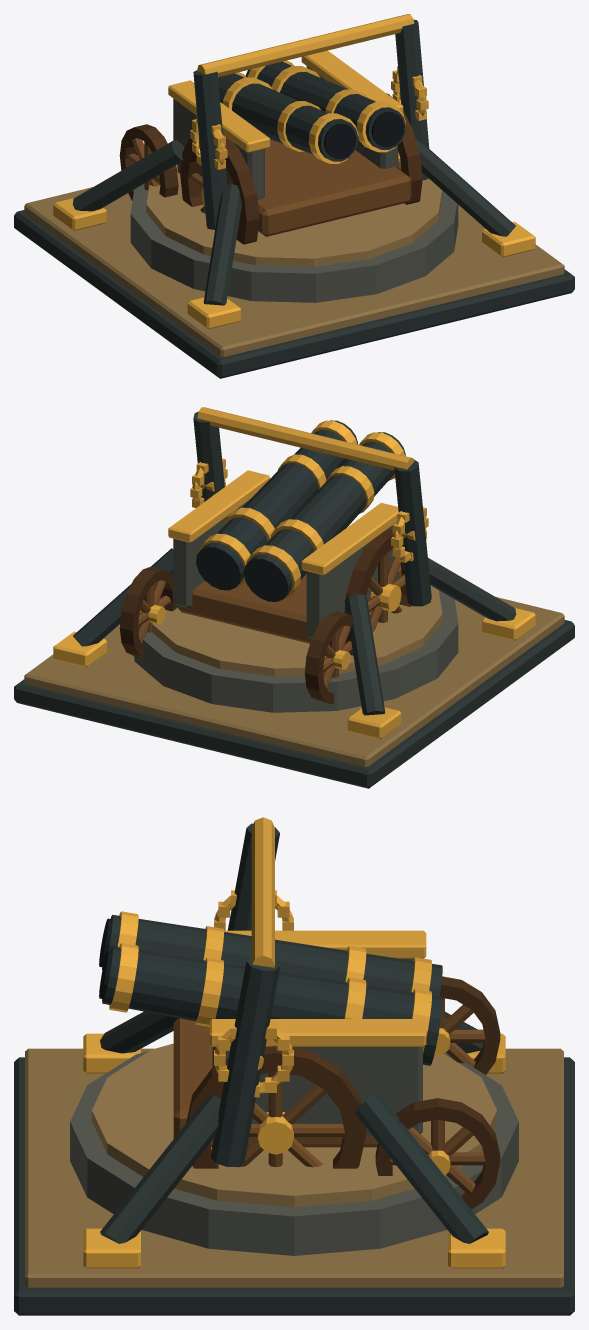
The picture shows the model from 3 angles, top to bottom: view 1: azimuth 30°, elevation 25°; view 2: azimuth 150°, elevation 25°; view 3: azimuth 270°, elevation 25°; orthographic projection. The views are drawn at different scales.
Parts seen in each view (by area): view 1: cannon_level6_structure, cannon_level6_metal; view 2: cannon_level6_structure, cannon_level6_metal; view 3: cannon_level6_structure, cannon_level6_metal.
Boxes of the visible parts, <box> form: cannon_level6_structure: <box>14,19,574,378</box>; cannon_level6_metal: <box>53,14,535,329</box>; cannon_level6_structure: <box>14,411,574,788</box>; cannon_level6_metal: <box>53,407,535,739</box>; cannon_level6_structure: <box>14,823,574,1315</box>; cannon_level6_metal: <box>83,817,505,1268</box>.
Bounding box in the file's own units: 3.6 × 2.22 × 3.6.
